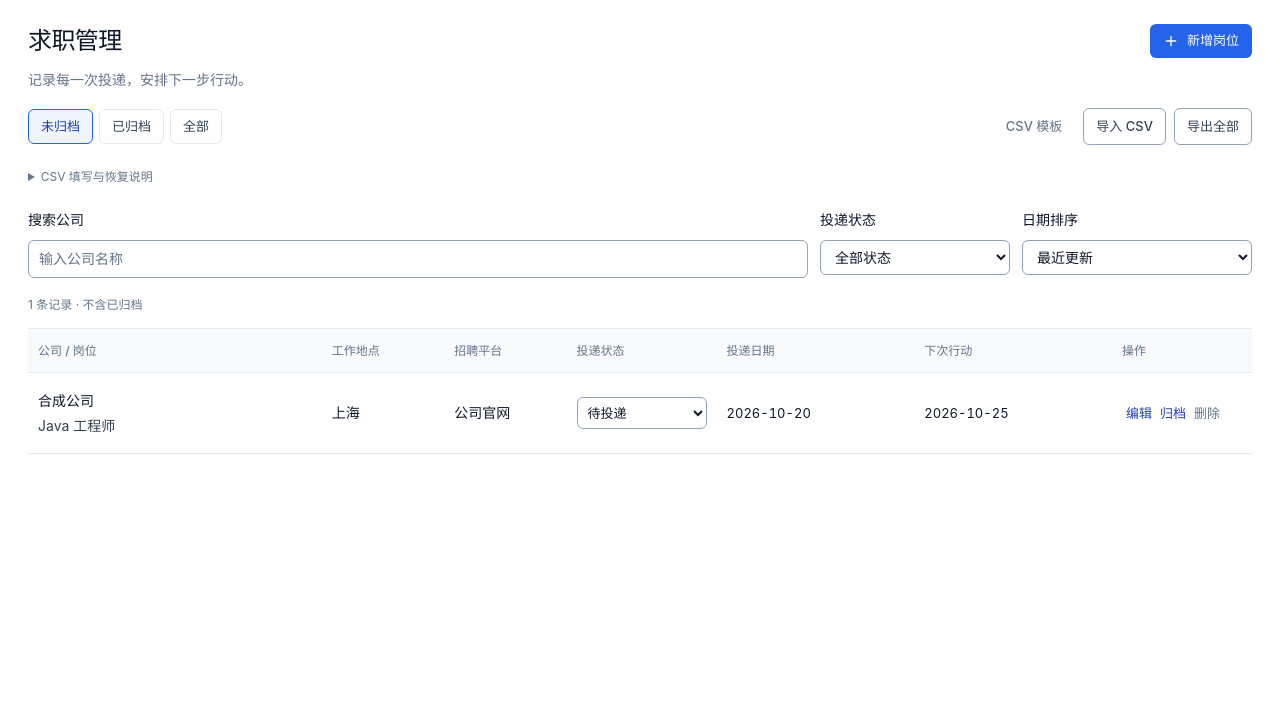
Test: 表格快速修改状态只发 PATCH，失败仍保持原状态
Select "收到 Offer" in the 3rd dropdown at [642, 413], box [576,397,706,429]
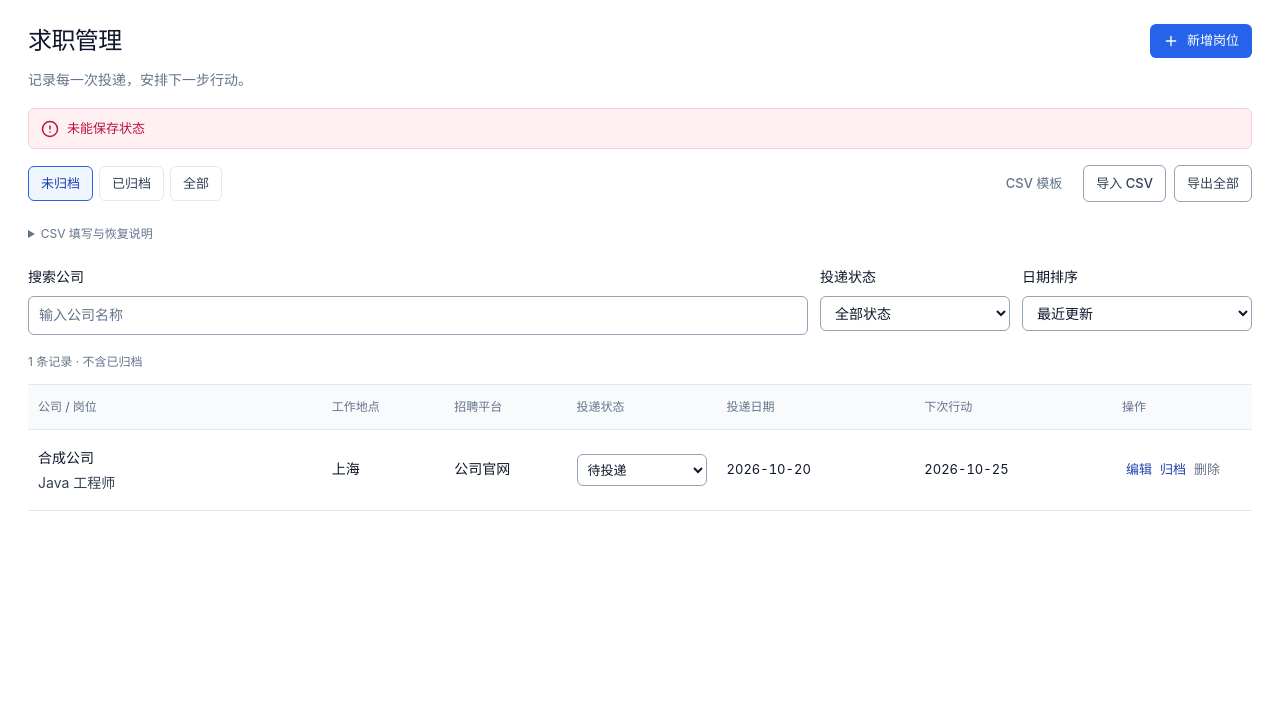
Expected: the text "未能保存状态" is shown, [67,117,145,140]
